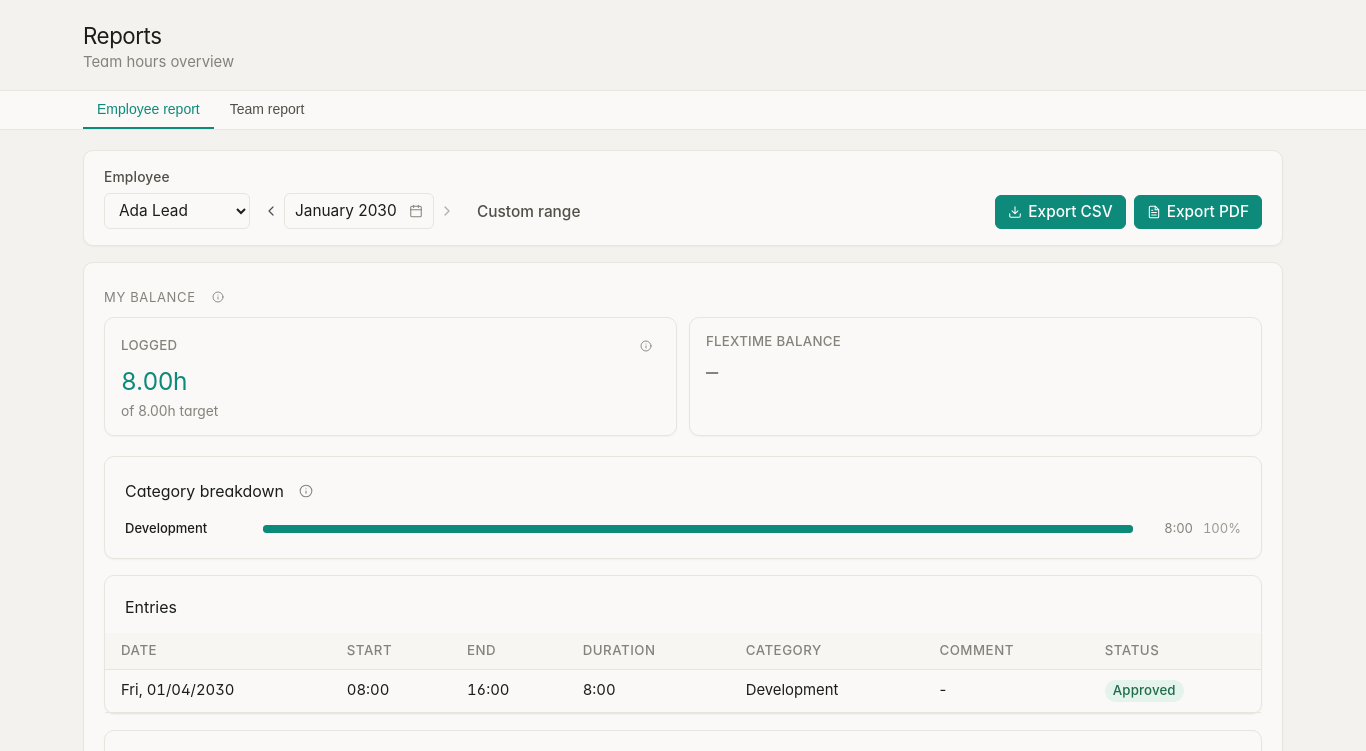
Test: Reports › switching the employee picker fetches the newly selected user's report
Check: the element with class "stat-cards" is shown, box [104,317,1262,436]
Select "Ben Employee" in the dropdown with id "reports-user-select" at (177, 211), box [104,193,250,229]
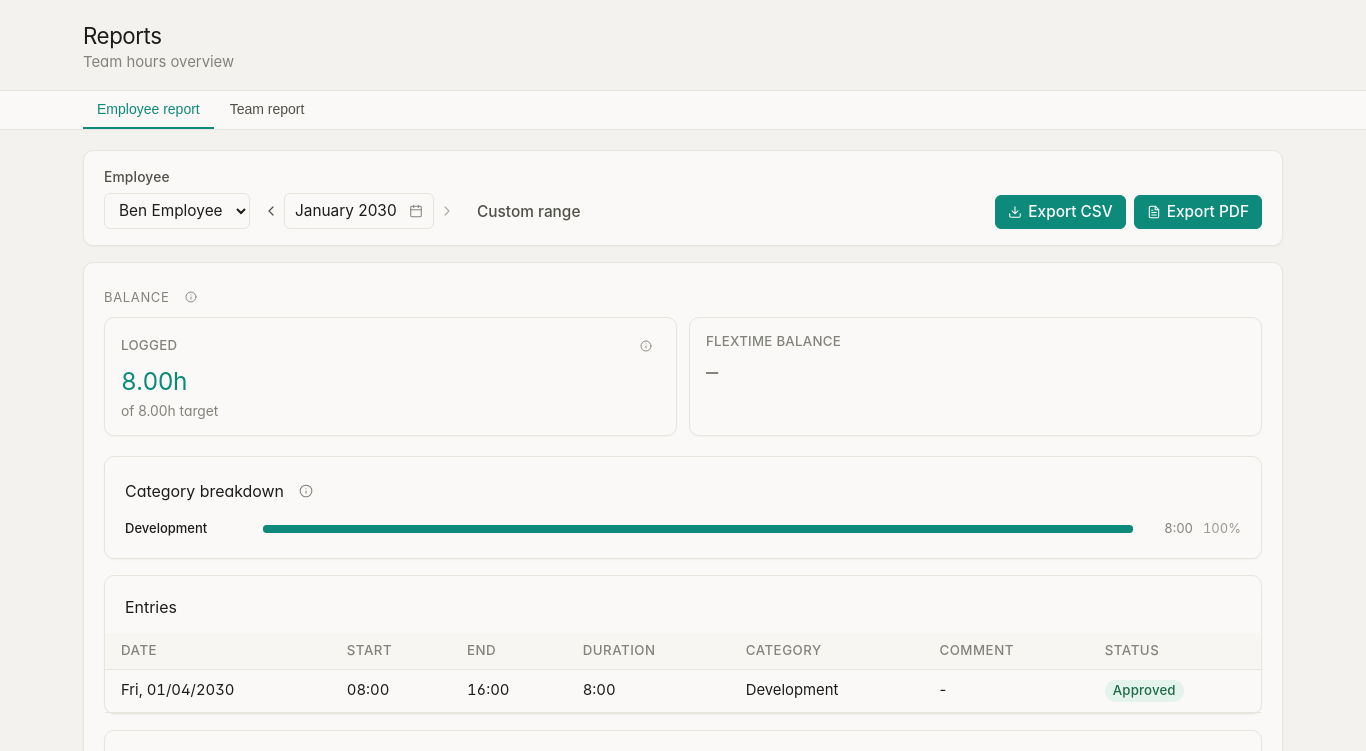
Check: the text "My Balance" is gone
